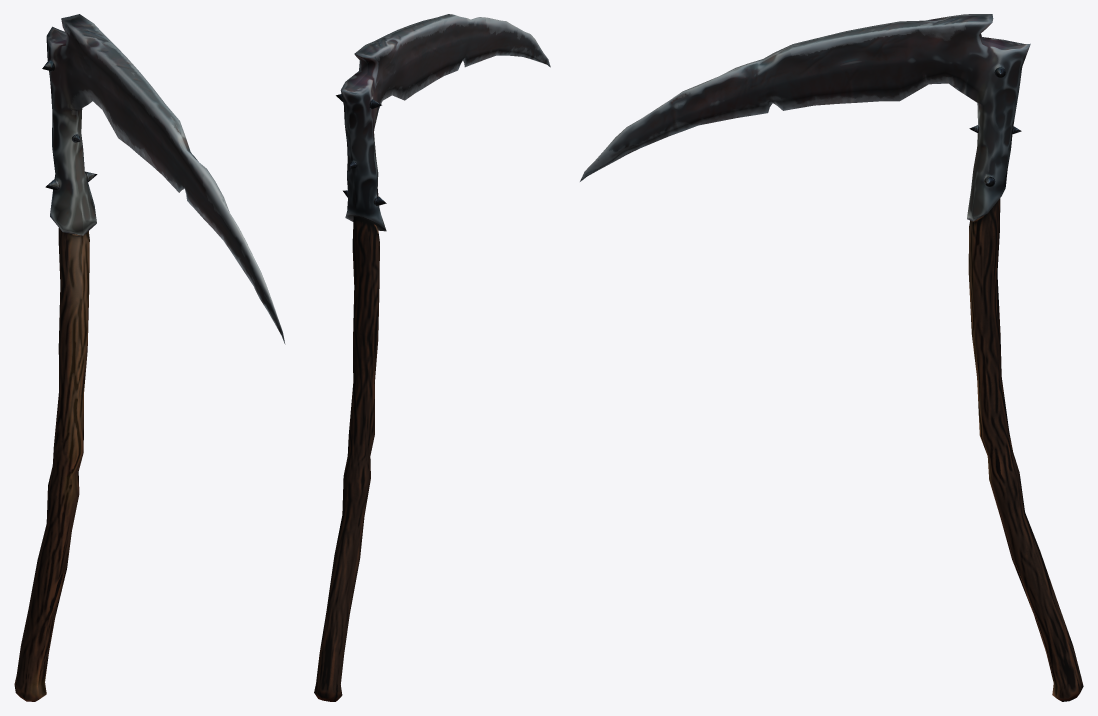
The model's file is Scythe.fbx.
The picture shows the model from 3 angles, left to right: view 1: azimuth 30°, elevation 25°; view 2: azimuth 150°, elevation 25°; view 3: azimuth 270°, elevation 25°; orthographic projection. The views are drawn at different scales.
Visible parts, largest first — view 1: BLADE_RETOPO.002; view 2: BLADE_RETOPO.002; view 3: BLADE_RETOPO.002.
Boxes of the visible parts, box(x1,y1,x2,y2) form: BLADE_RETOPO.002: box(14, 14, 285, 701); BLADE_RETOPO.002: box(314, 14, 550, 701); BLADE_RETOPO.002: box(580, 14, 1083, 701).
Bounding box in the file's own units: 165 × 2104 × 1411.
